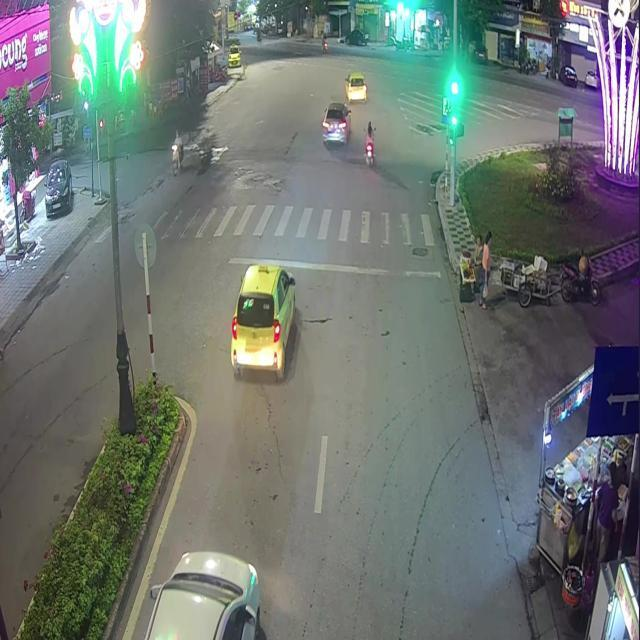car: (230, 263, 295, 378)
green_light: (447, 77, 460, 131)
stop_line: (228, 256, 440, 277)
